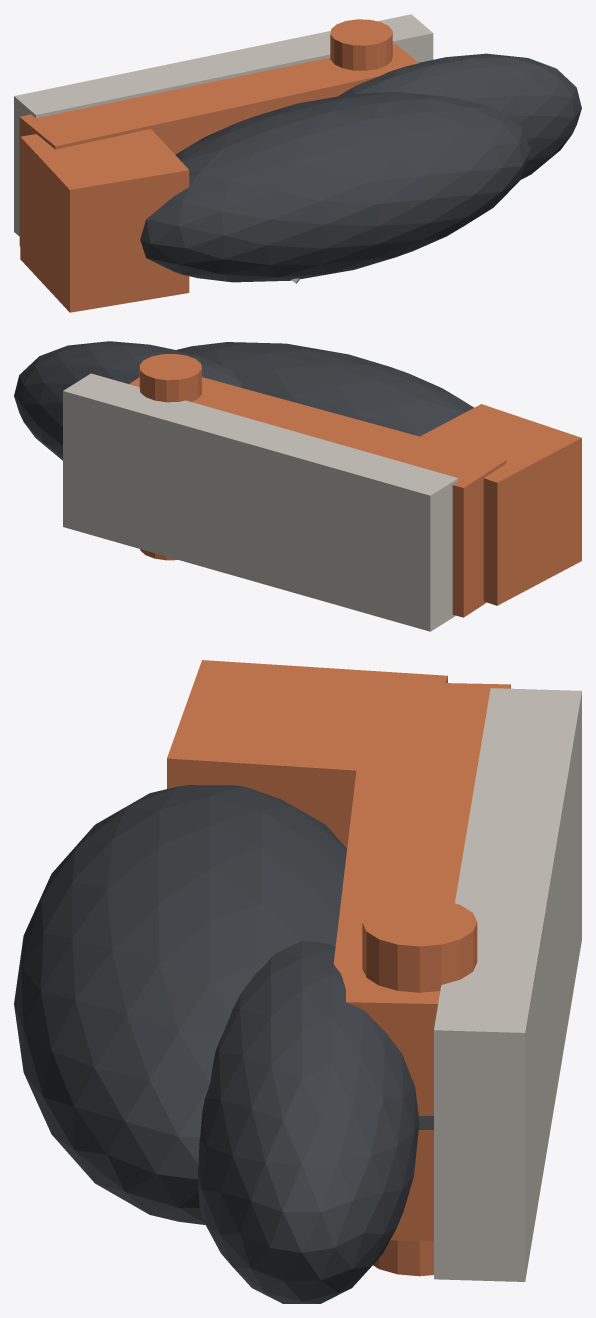
3 renders of one model, top to bottom at view 1: azimuth 30°, elevation 25°; view 2: azimuth 150°, elevation 25°; view 3: azimuth 270°, elevation 25°, orthographic. The views are drawn at different scales.
Parts seen in each view (by area): view 1: geometry_0; view 2: geometry_0; view 3: geometry_0.
Part boxes in pixels (bbox=[...]): geometry_0: bbox=[14, 14, 581, 312]; geometry_0: bbox=[14, 341, 581, 631]; geometry_0: bbox=[14, 660, 581, 1303].
Bounding box in the file's own units: 0.4341 × 0.139 × 0.217.
